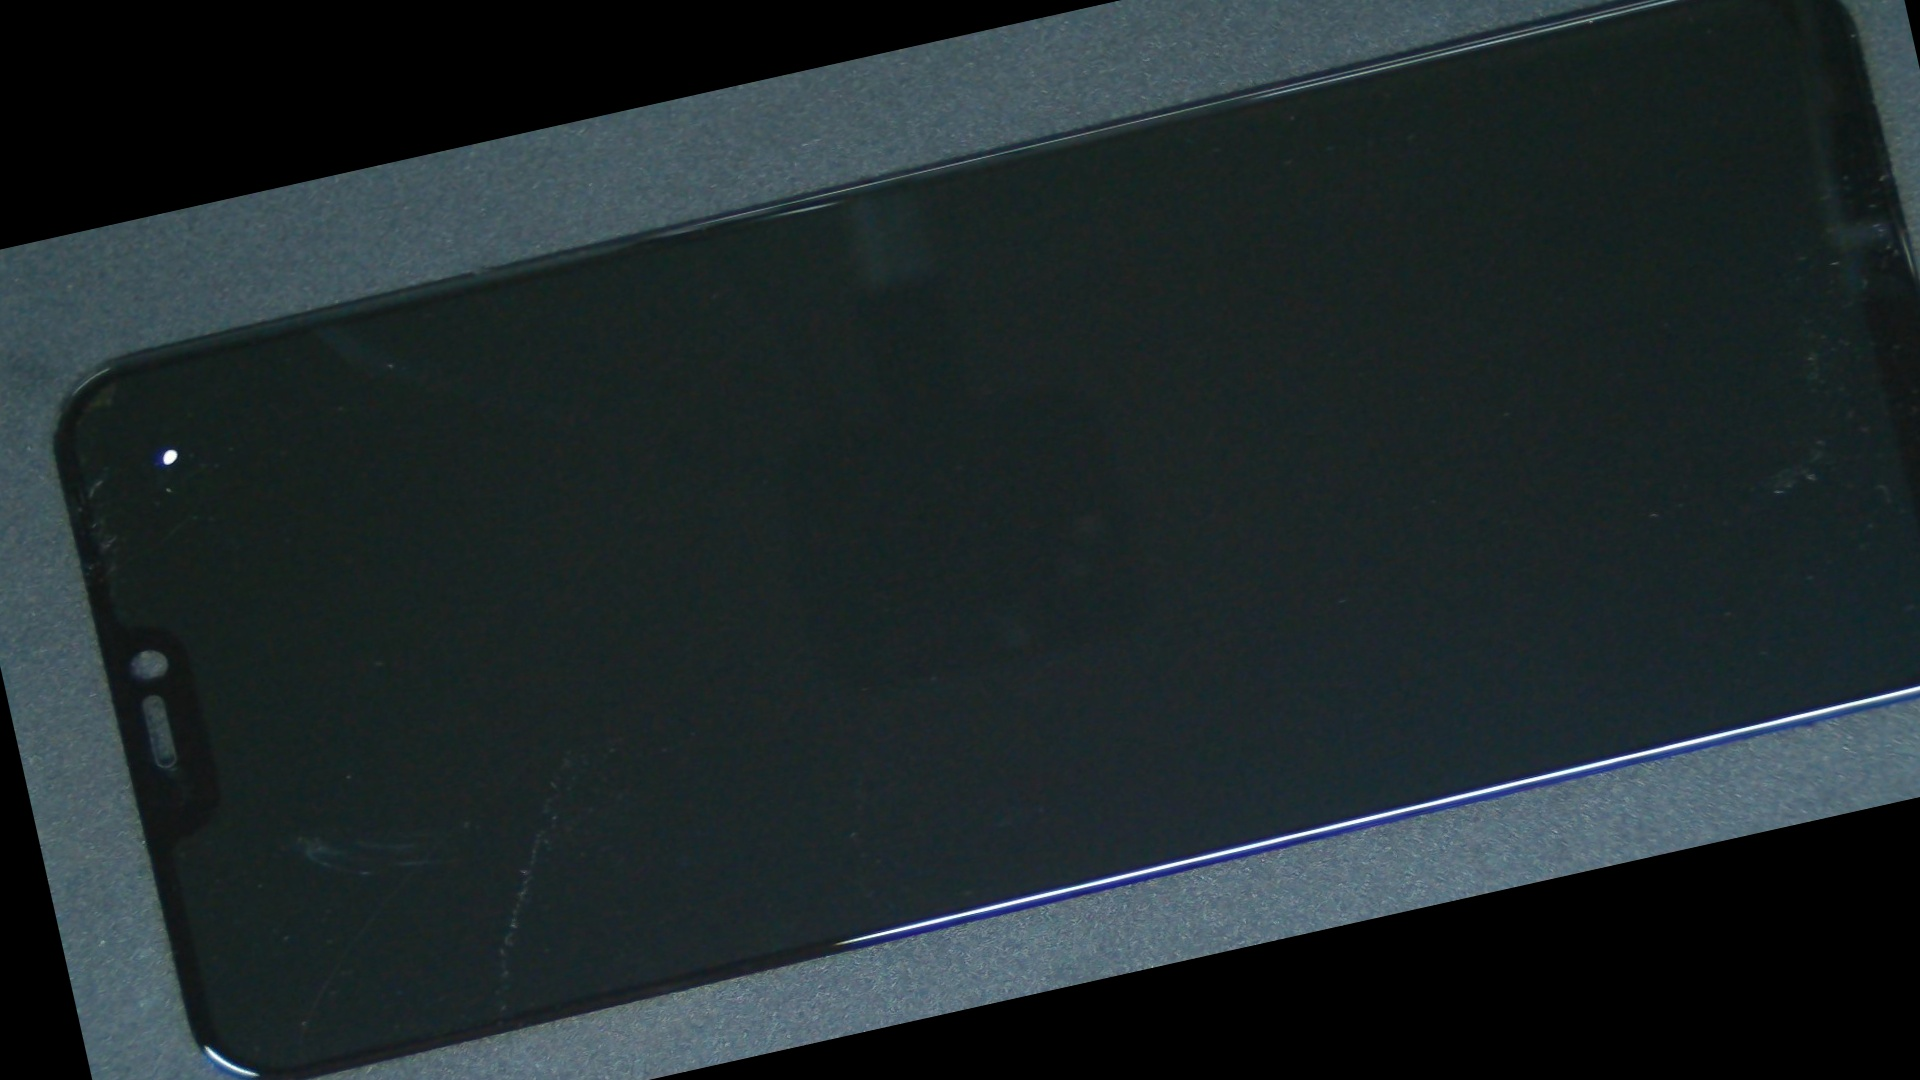oil: (42, 311, 299, 583)
